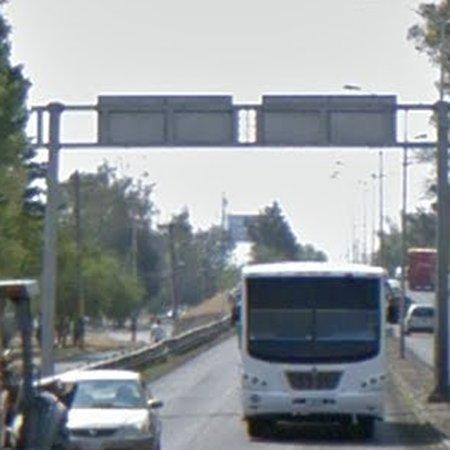buses: (240, 263, 388, 438)
